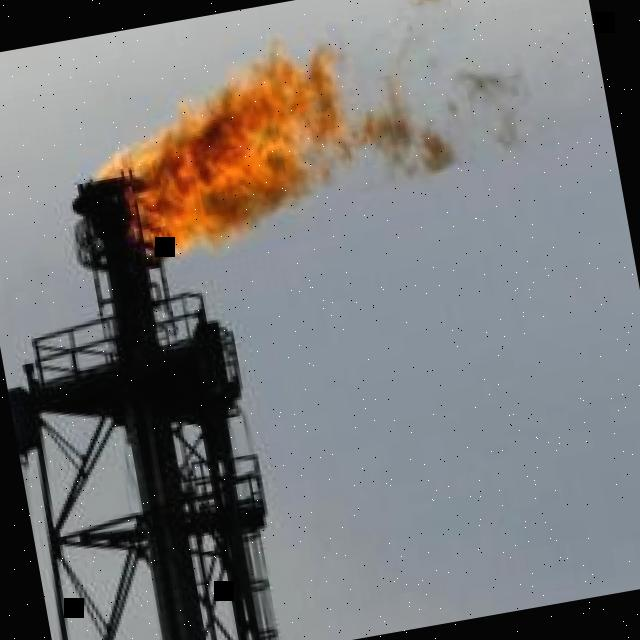fire: (92, 35, 399, 256)
smoke: (378, 74, 521, 172)
